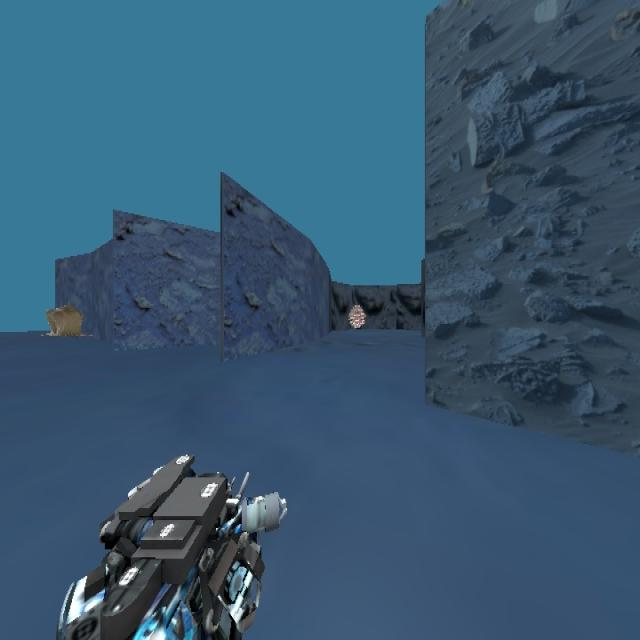Ice: (45, 304, 83, 336)
Mushroom: (348, 303, 366, 329)
